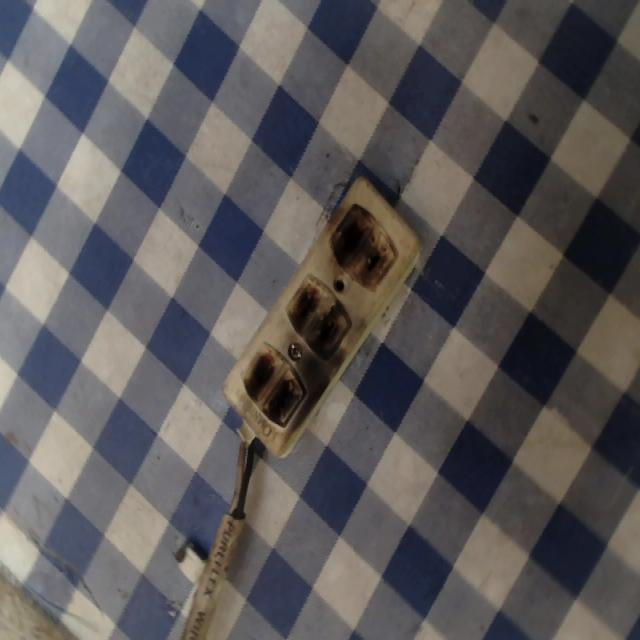-: (281, 268, 352, 359), (242, 337, 309, 431), (330, 200, 398, 291)
